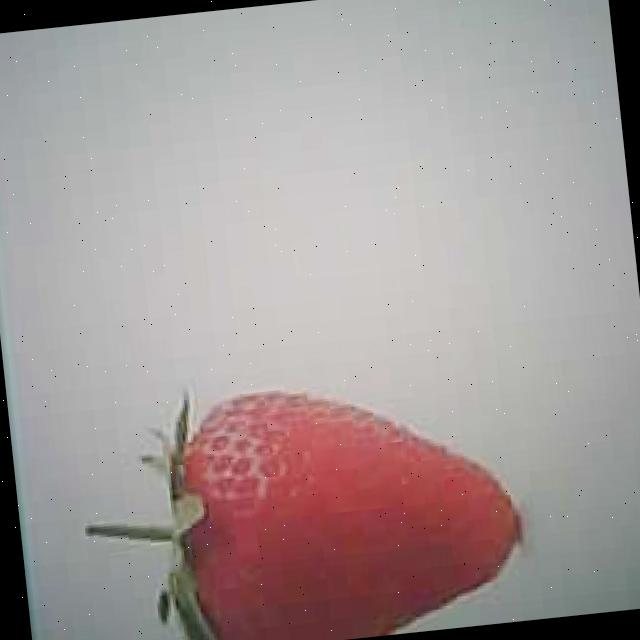strawberry: (164, 363, 535, 640)
